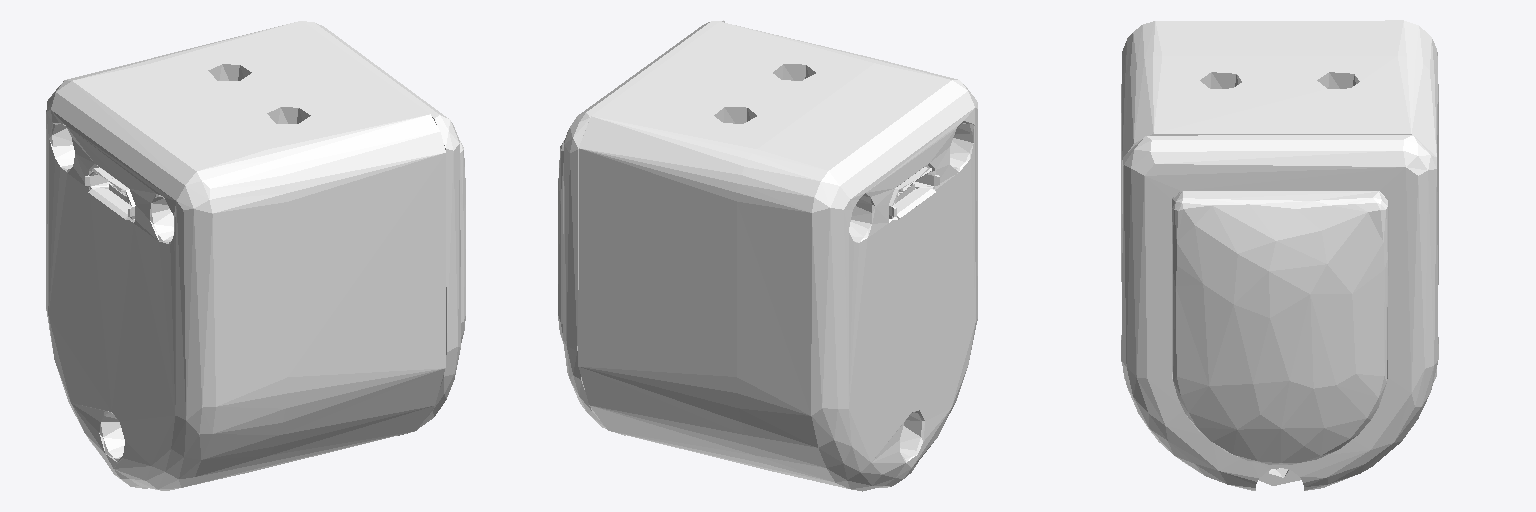
robot.urdf — digit:
<?xml version="1.0" ?>
<robot name="digit">
  <link concave="yes" name="baseLink">
    <inertial>
      <origin rpy="0 0 0" xyz="0 0 0"/>
       <mass value=".1"/>
       <inertia ixx="1" ixy="0" ixz="0" iyy="1" iyz="0" izz="1"/>
    </inertial>
    <visual>
      <origin rpy="0 0 0" xyz="0 0 0"/>
      <geometry>
				<mesh filename="digit_transformed2.stl" scale="1 1 1"/>
      </geometry>
       <material name="white">
        <color rgba="1 1 1 1"/>
      </material>
    </visual>
    <collision concave="yes">
      <origin rpy="0 0 0" xyz="0 0 0"/>
     <geometry>
				<mesh filename="digit_transformed2.stl" scale="1 1 1"/>
      </geometry>
    </collision>
  </link>
</robot>

--- What the picture shows (computed from the rendered views, not written in the file) ---
The picture shows the robot from 3 angles, left to right: view 1: azimuth 30°, elevation 25°; view 2: azimuth 150°, elevation 25°; view 3: azimuth 270°, elevation 25°; orthographic projection.
Model digit with 1 links and 0 joints (none), rooted at baseLink, posed all joints at 0.
Visible links, largest first — view 1: baseLink; view 2: baseLink; view 3: baseLink.
Boxes of the visible links, box(x1,y1,x2,y2) form: baseLink: box(46, 21, 465, 490); baseLink: box(558, 20, 977, 491); baseLink: box(1121, 20, 1438, 490).
Bounding box of the posed robot: 0.0323 × 0.027 × 0.034 m (x, y, z).
1 mesh visuals loaded from 1 distinct referenced files (1 binary STL).